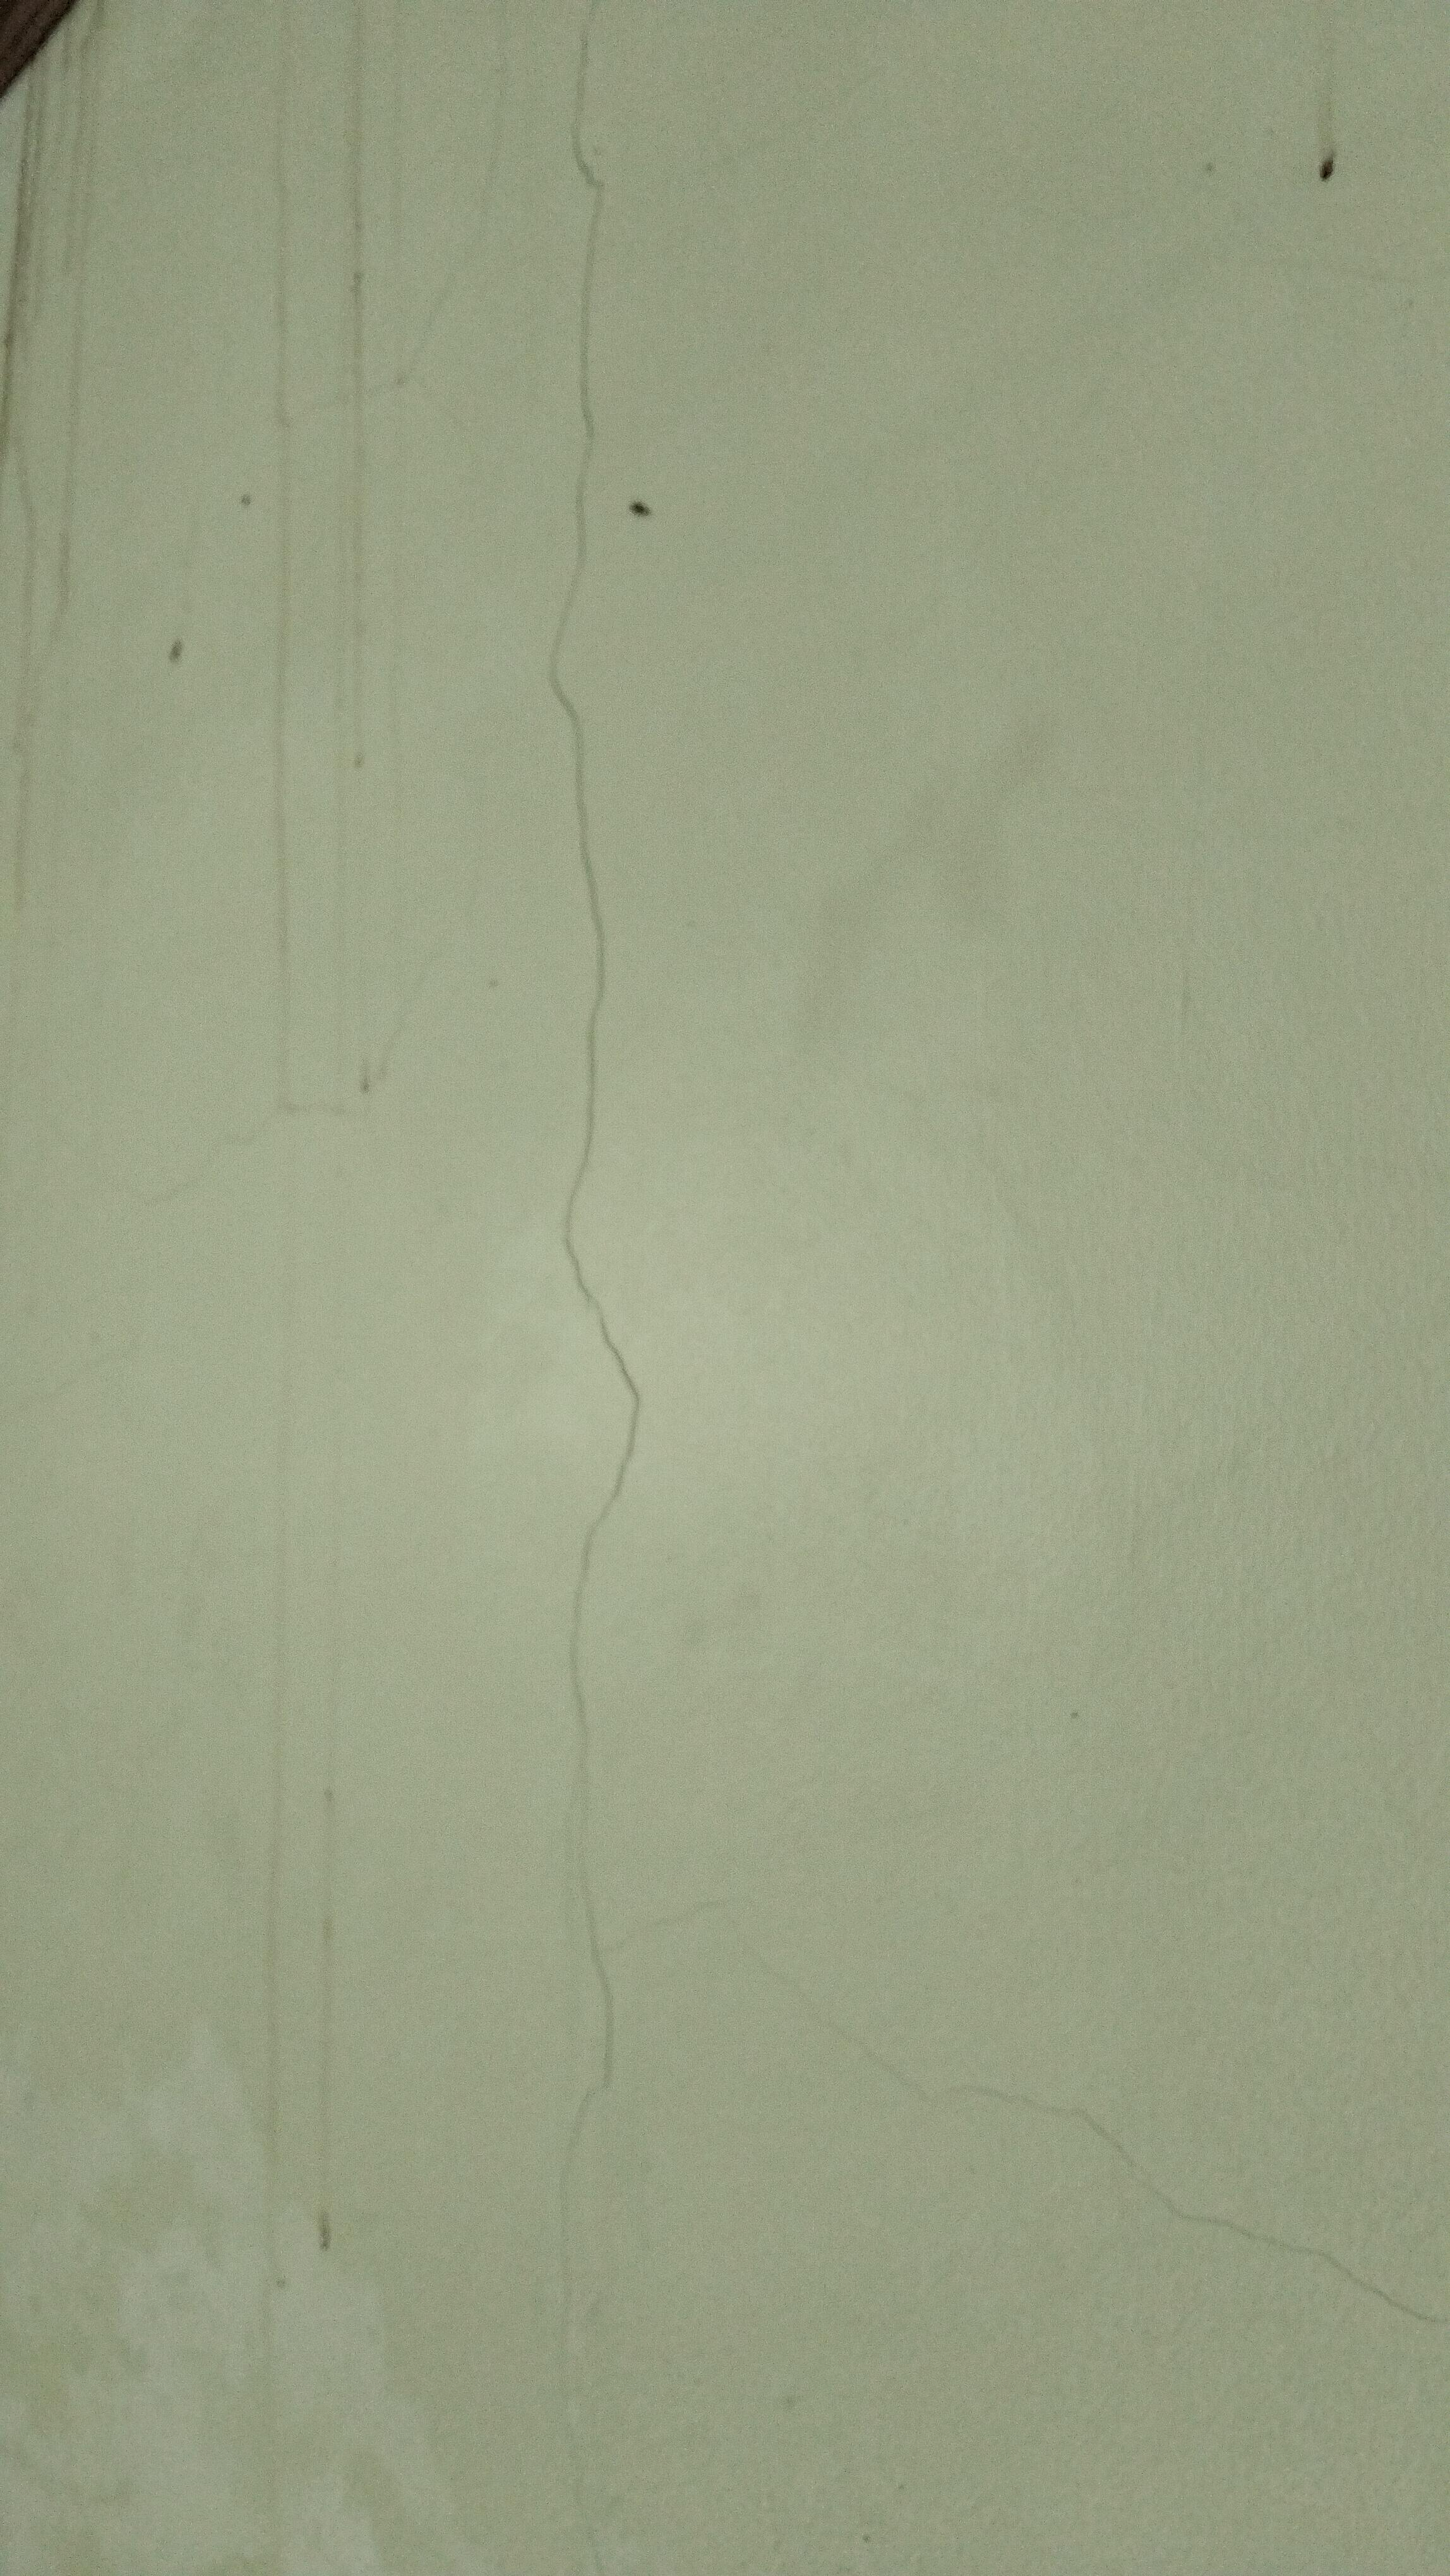Crack: (494, 0, 756, 2263)
